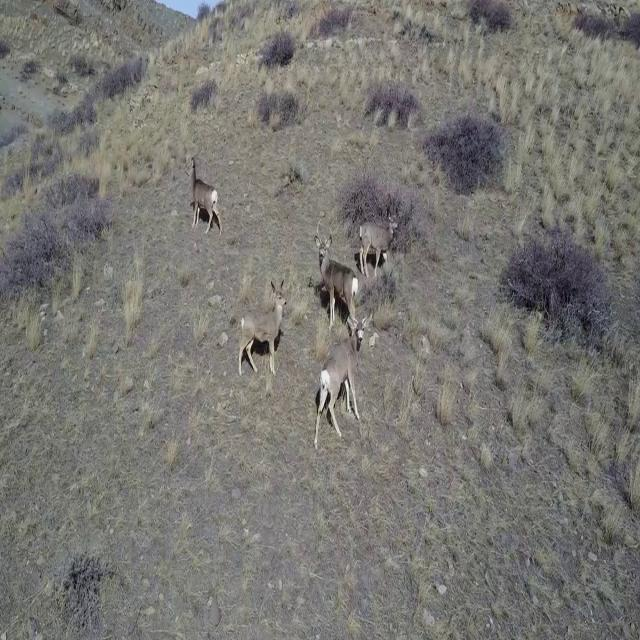Deer: (310, 315, 371, 445), (311, 220, 361, 333), (238, 276, 290, 376), (356, 204, 399, 278), (187, 151, 221, 234)
